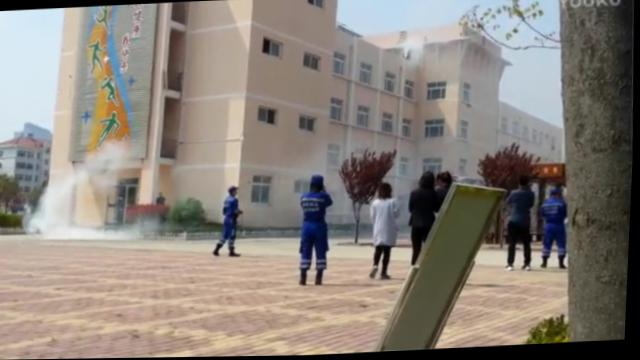smoke: (89, 144, 124, 189), (65, 223, 132, 242), (26, 205, 65, 237), (40, 182, 69, 203), (402, 40, 424, 67)
